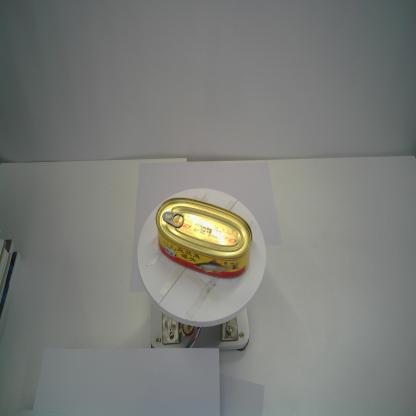Canned Food: (154, 195, 254, 279)
